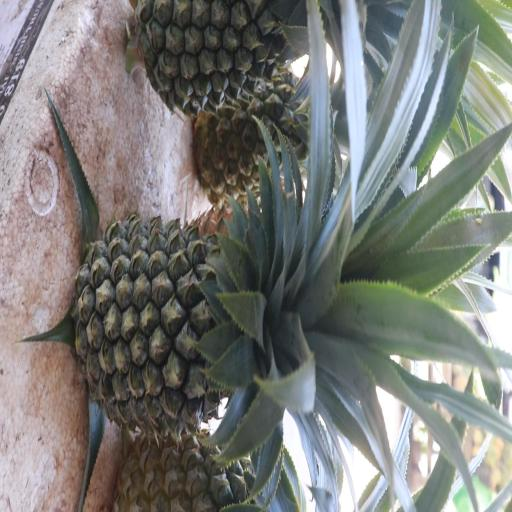------------------------------: (118, 419, 268, 512)
